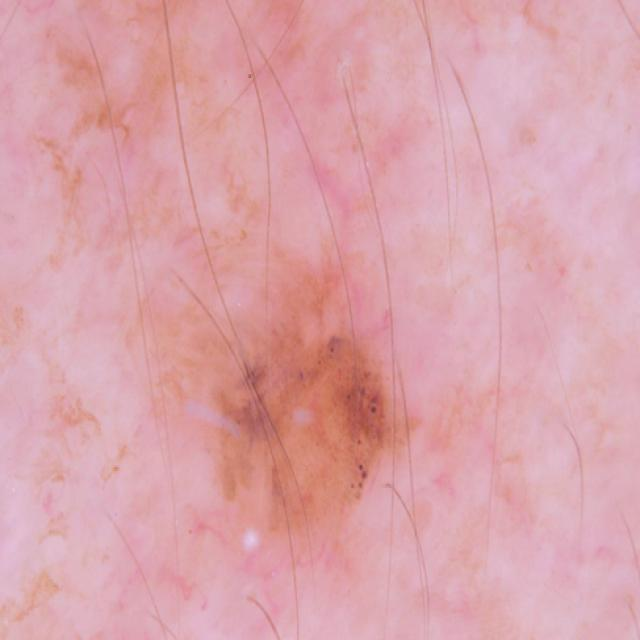Carcinoma: (128, 247, 480, 640)
